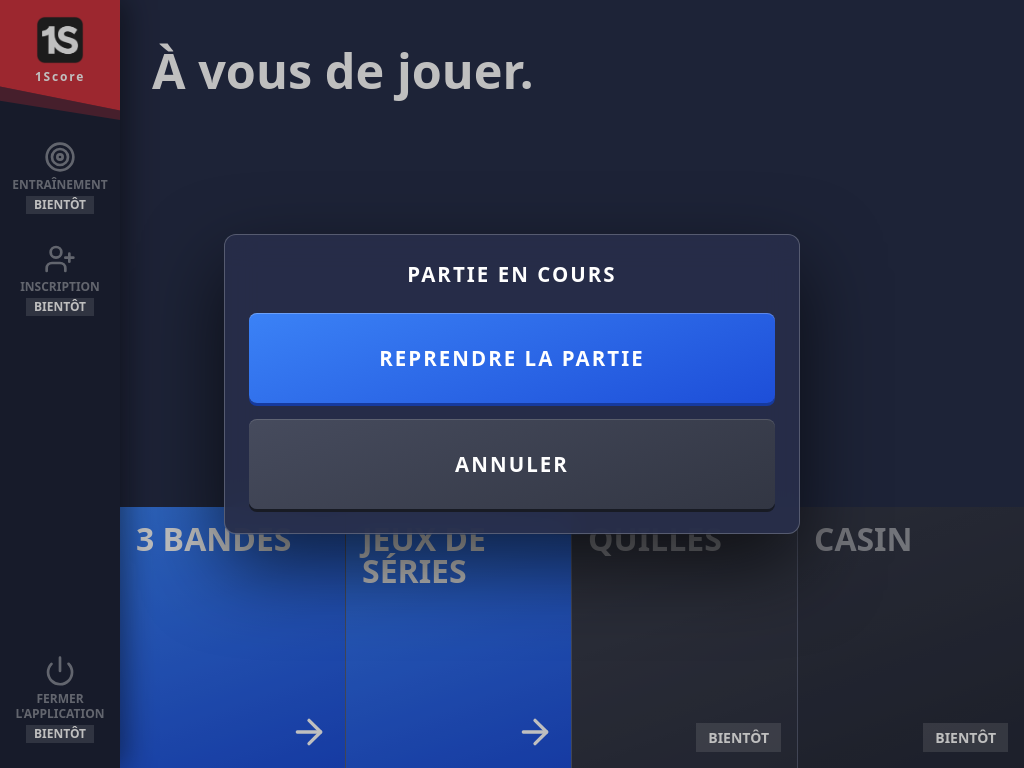
Test: GameView — reprise après fermeture › brings the scoreboard back as it was on REPRENDRE LA PARTIE
Press the mouse on the button with test id "prompt-primary" at coordinates (512, 358), box top-left (249, 313), bottom-right (775, 403)
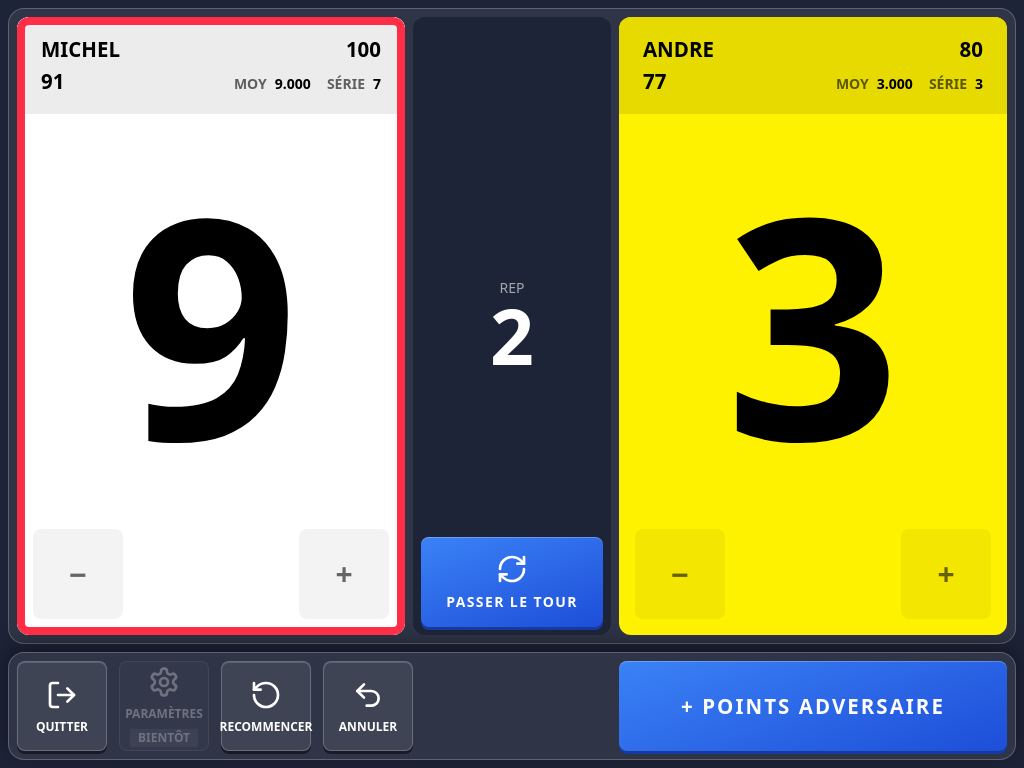
Expected: the number of "PlayerPanel" components is 2, top-left (17, 17), bottom-right (405, 635); top-left (619, 17), bottom-right (1007, 635)
Expected: the text "MICHEL" is shown, top-left (41, 37), bottom-right (120, 63)
Expected: the text with test id "target-score" reads "100", top-left (346, 35), bottom-right (381, 63)
